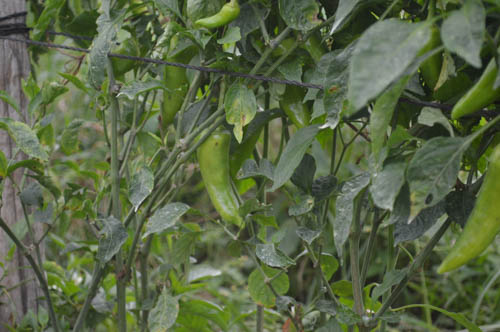ChiliPepper: (439, 144, 498, 277), (201, 132, 243, 224), (162, 34, 191, 122), (194, 6, 245, 32), (103, 40, 137, 71)
